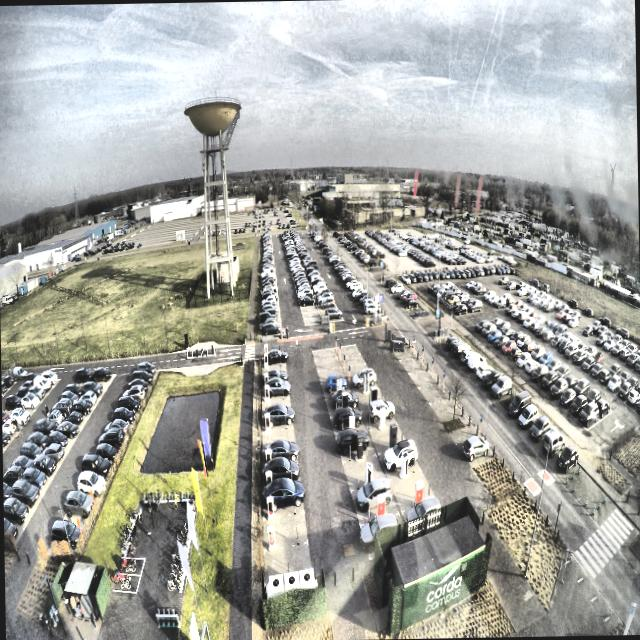cabinet: (268, 567, 315, 591)
car: (263, 476, 305, 514), (263, 456, 300, 483), (263, 402, 296, 427), (263, 438, 300, 460), (263, 375, 292, 397), (262, 367, 289, 383), (265, 348, 290, 362)
parking: (263, 510, 307, 549), (264, 542, 311, 578), (262, 484, 303, 518), (262, 463, 300, 492), (262, 445, 298, 470), (262, 426, 296, 450), (262, 411, 293, 431), (262, 397, 291, 415), (262, 385, 289, 401), (262, 375, 288, 388), (262, 354, 286, 367), (262, 365, 287, 377)
supercharger: (267, 526, 275, 548), (266, 496, 274, 518), (265, 470, 272, 490), (265, 449, 272, 465), (264, 413, 270, 430), (265, 430, 271, 446), (264, 398, 270, 413), (264, 385, 269, 398), (263, 352, 268, 364), (264, 373, 269, 384), (264, 362, 268, 373), (264, 344, 268, 353)
